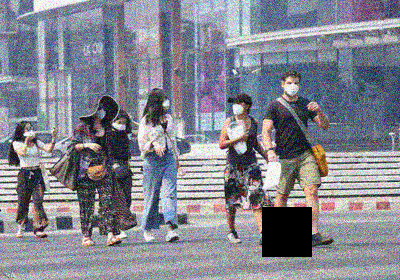with_mask: (283, 81, 299, 97), (231, 101, 245, 116), (93, 104, 106, 120), (113, 121, 126, 131), (23, 126, 33, 139), (161, 95, 169, 111)
